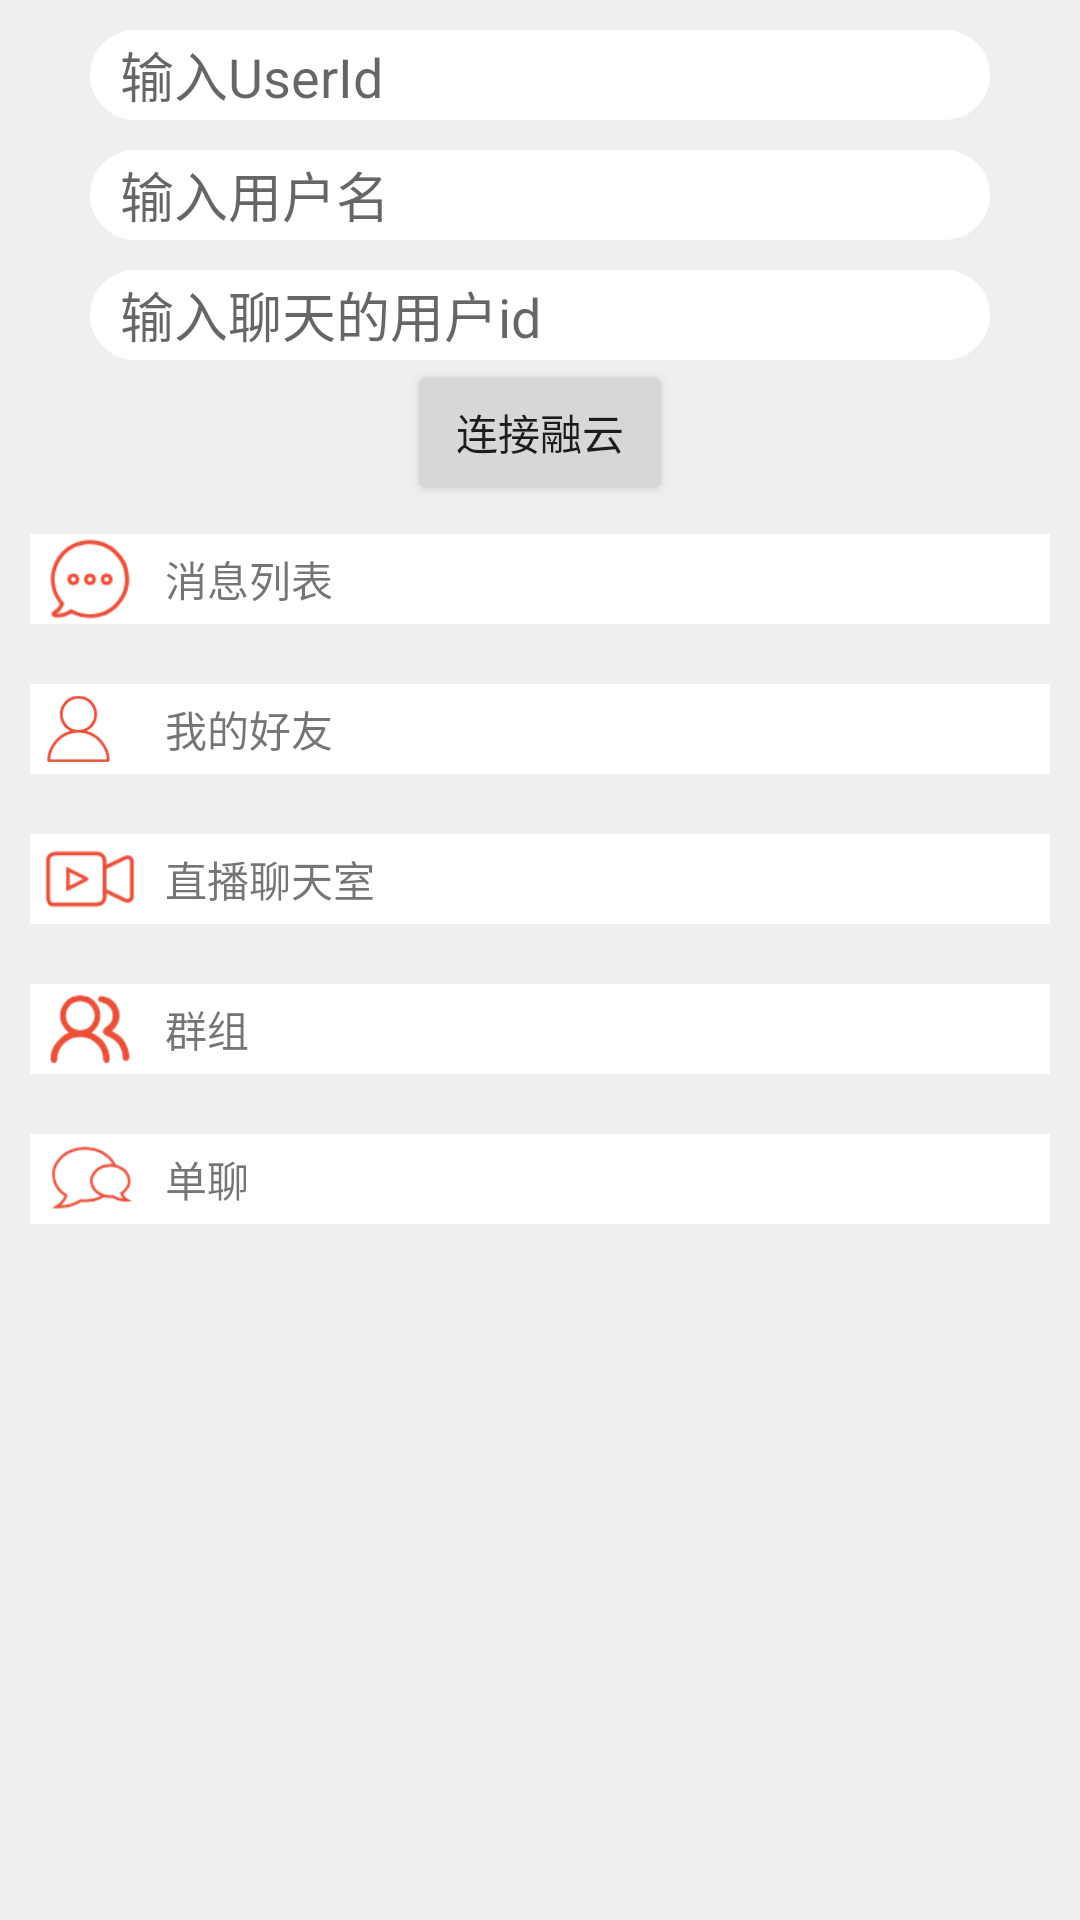

Named icons in this screenshot (1080px×1920px) and their bounding boxes, (x1, y1, x2, y2):
chatmessage: (50, 539, 130, 619)
talk: (52, 1146, 132, 1209)
video: (45, 834, 135, 924)
